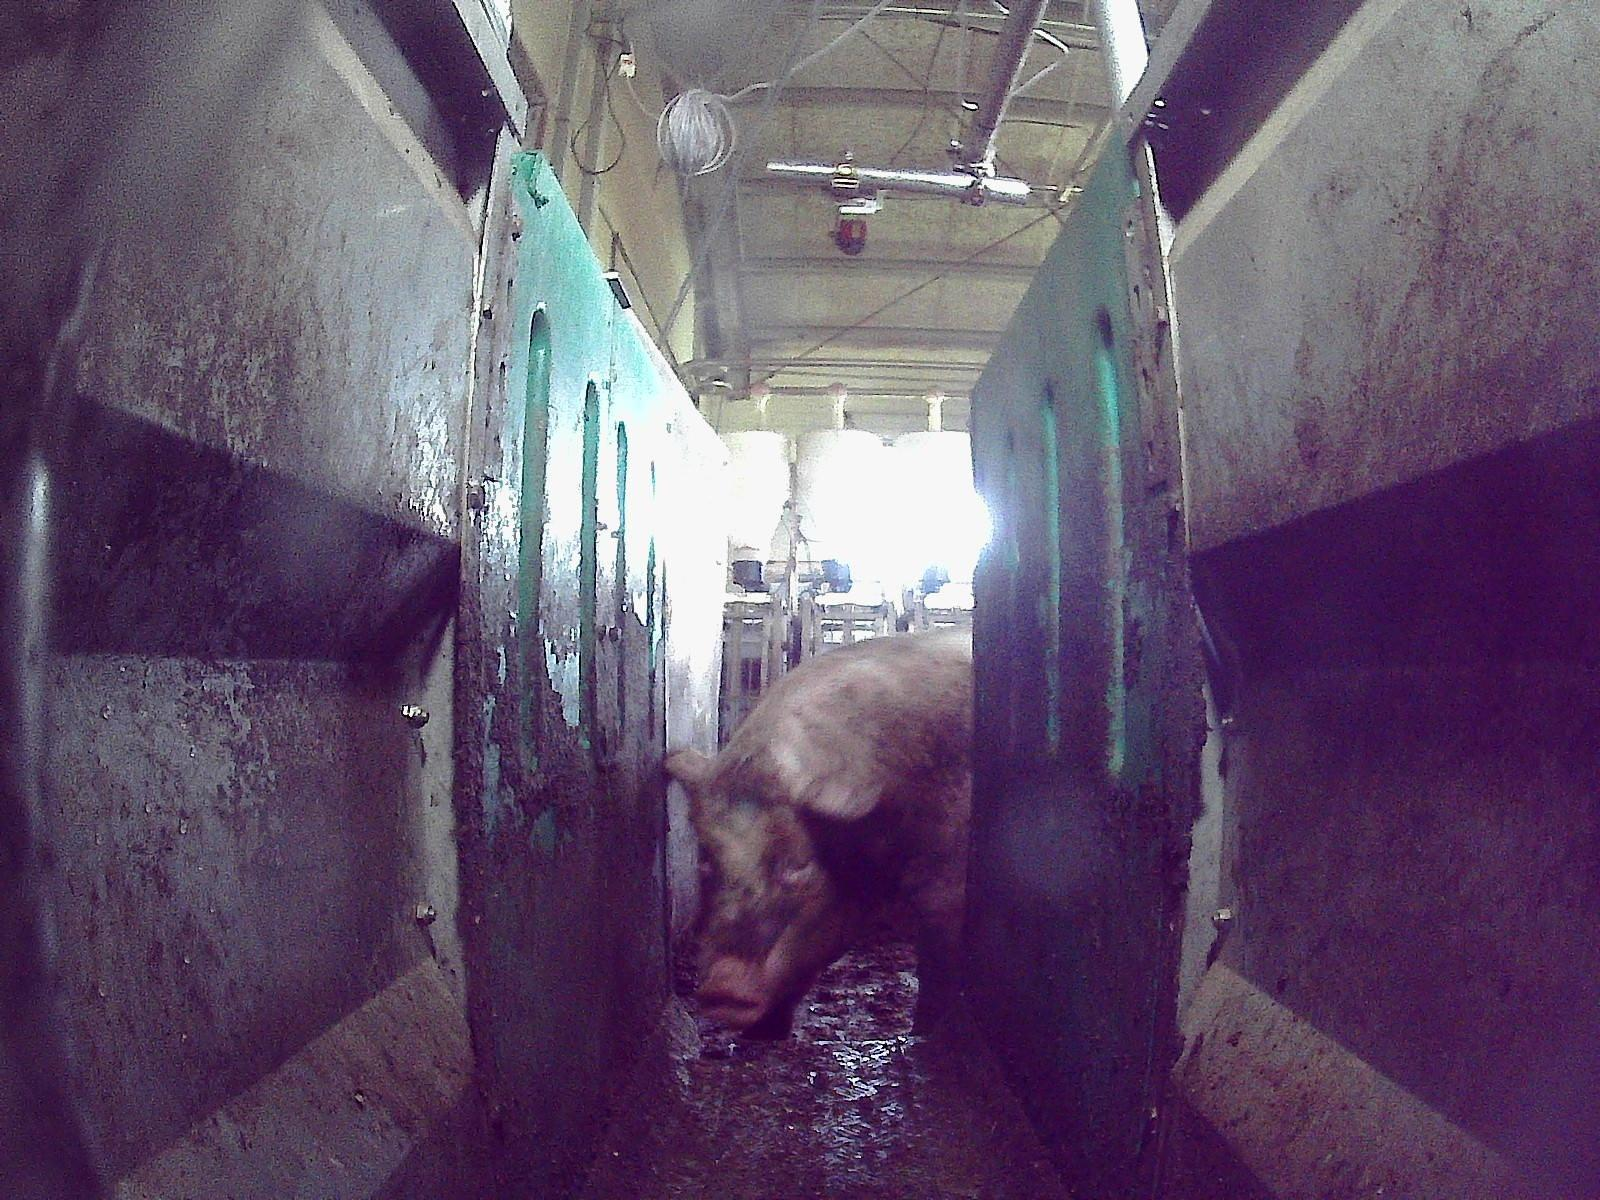Face: (684, 777, 871, 1028)
